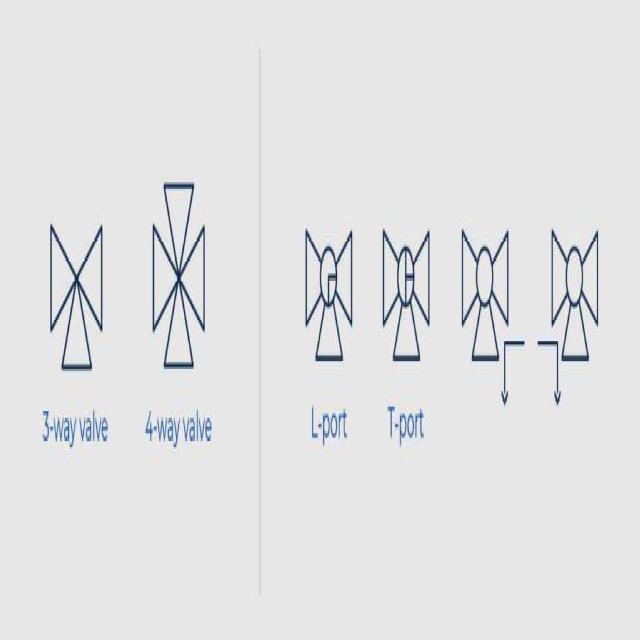3 Way Ball Valve: (450, 212, 508, 362), (550, 225, 599, 361)
3 Way Gate Valve: (41, 192, 112, 406)
4 Way Gate Valve: (134, 142, 214, 388)
